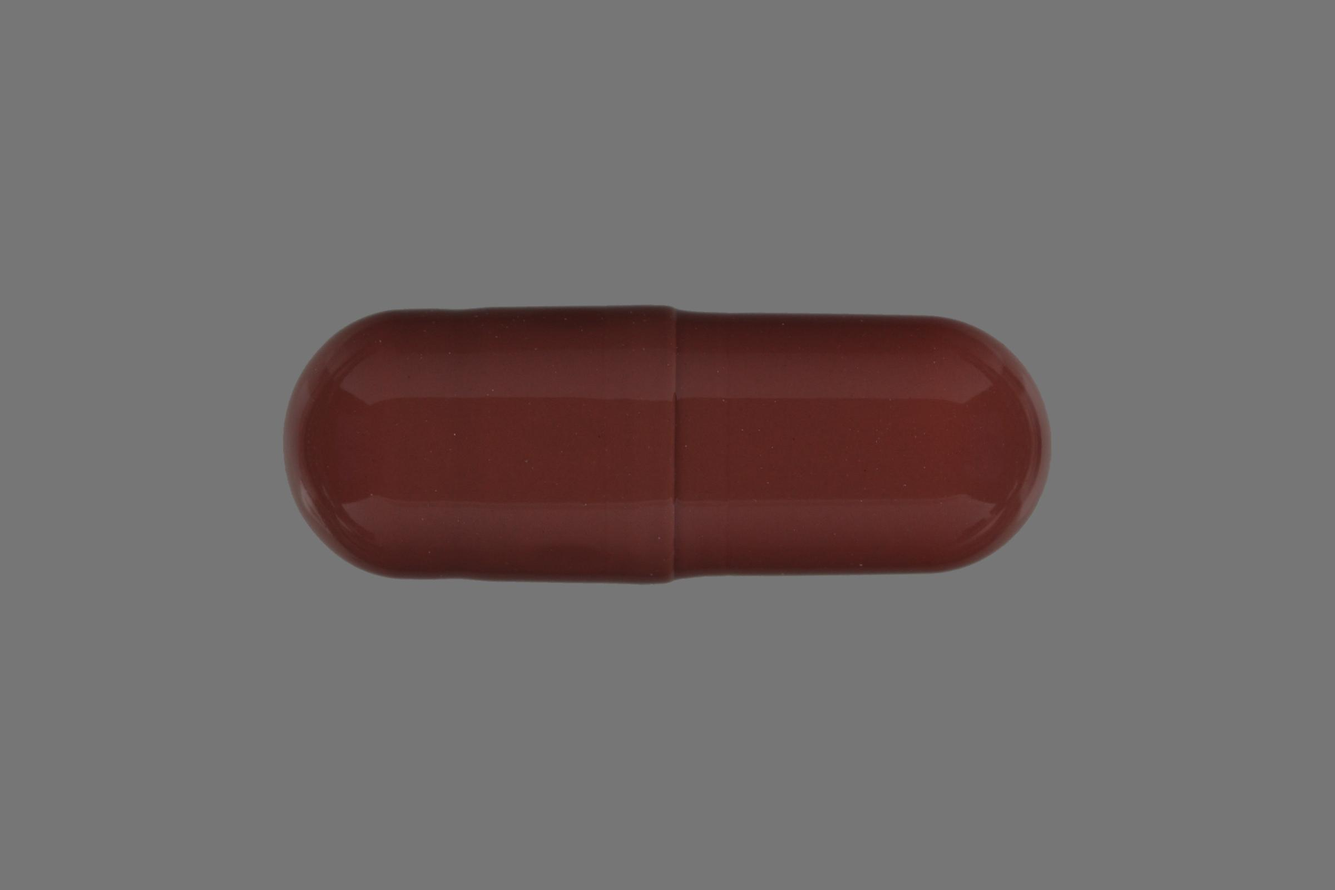Pill: (276, 293, 1062, 597)
